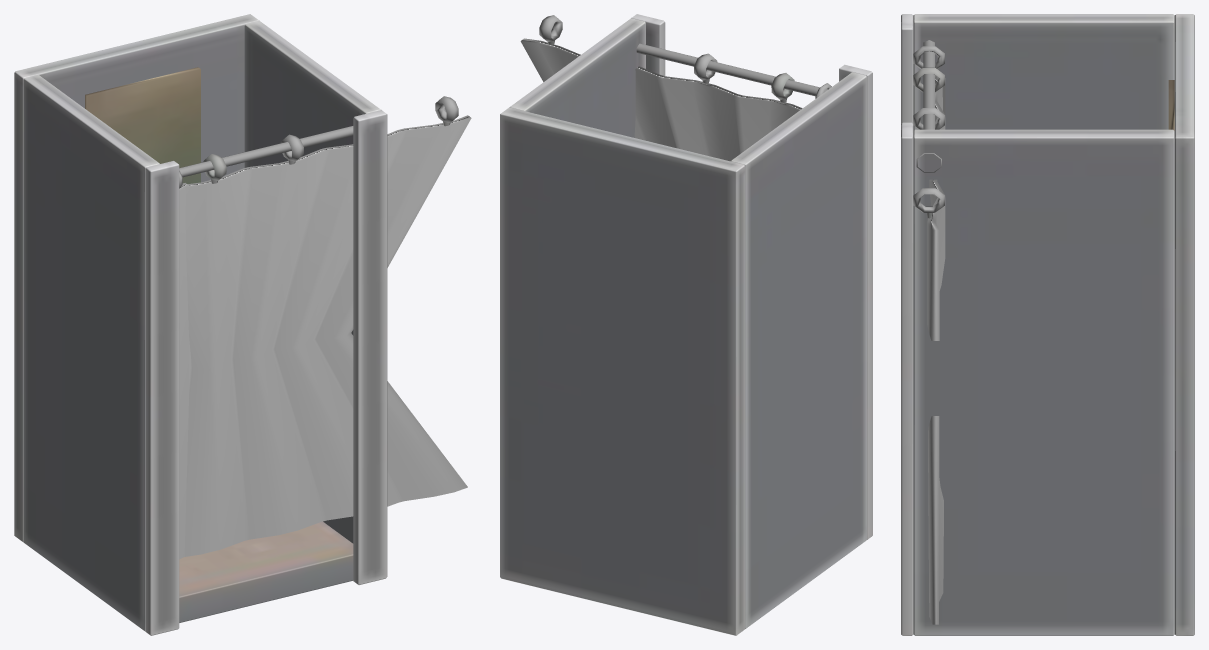
3 views of the same model, side by side, from view 1: azimuth 30°, elevation 25°; view 2: azimuth 150°, elevation 25°; view 3: azimuth 270°, elevation 25° (orthographic). The views are drawn at different scales.
Size of the model in its own units: 14.12 by 18.74 by 10.
3 materials, 3 textured.
